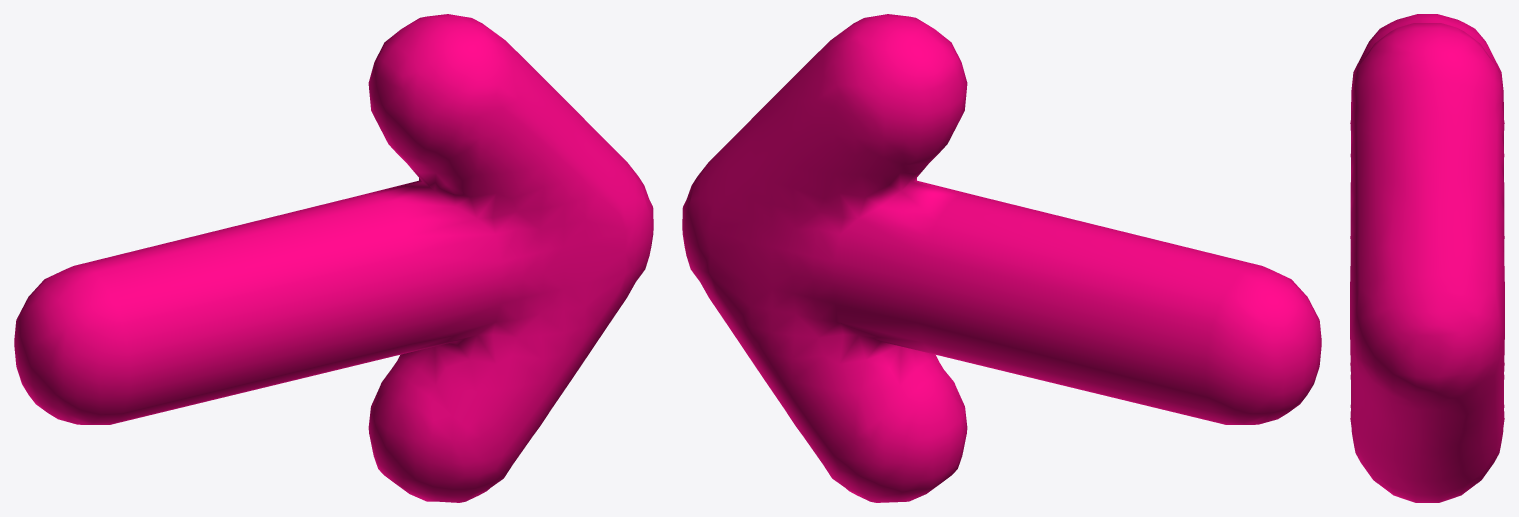
File: Arrow.fbx
The picture shows the model from 3 angles, left to right: view 1: azimuth 30°, elevation 25°; view 2: azimuth 150°, elevation 25°; view 3: azimuth 270°, elevation 25°; orthographic projection.
Visible parts, largest first — view 1: arrow; view 2: arrow; view 3: arrow.
Boxes of the visible parts, box(x1,y1,x2,y2) form: arrow: box(14, 14, 653, 502); arrow: box(682, 14, 1321, 502); arrow: box(1350, 14, 1504, 502).
Bounding box in the file's own units: 3.05 × 2.24 × 0.6736.
